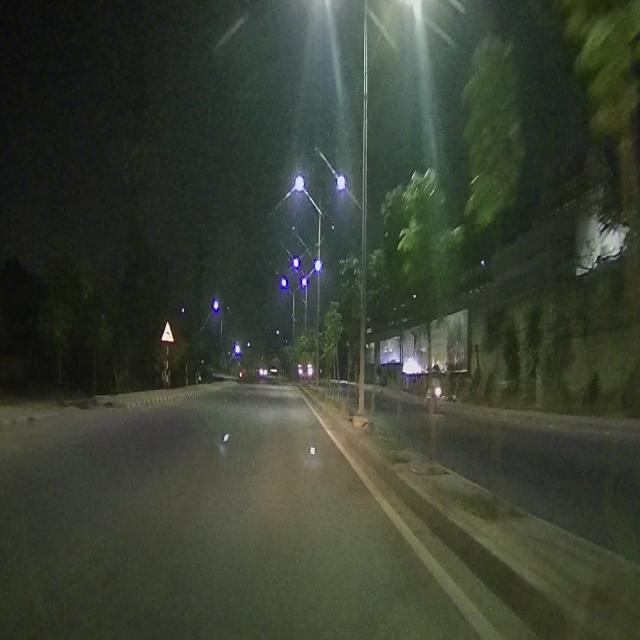left-hand-curve: (160, 318, 175, 347)
